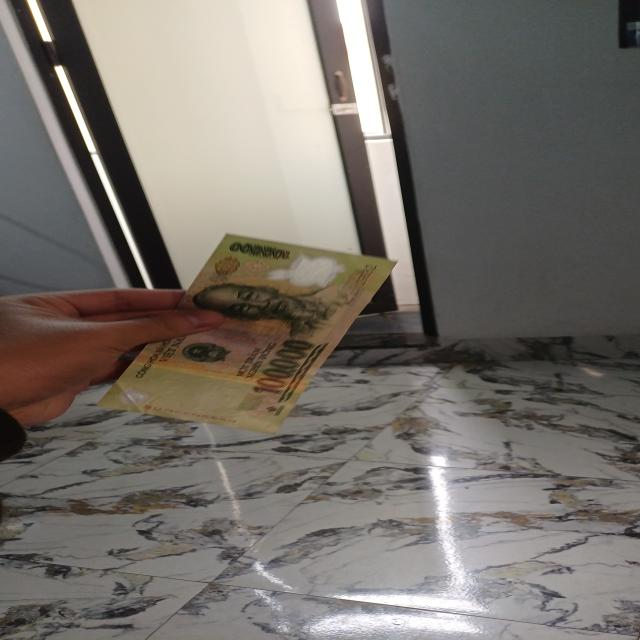100 000 VND: (94, 222, 400, 450)
